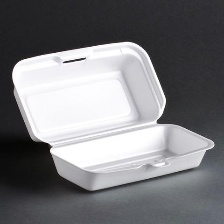foam_box: (5, 33, 222, 196)
